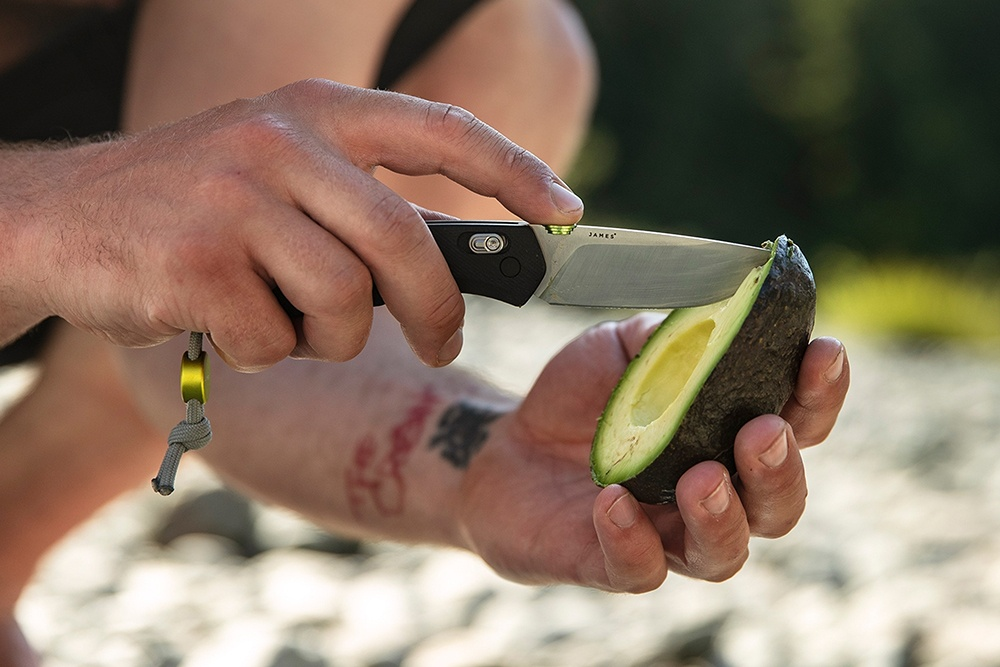knife: (217, 209, 777, 316)
